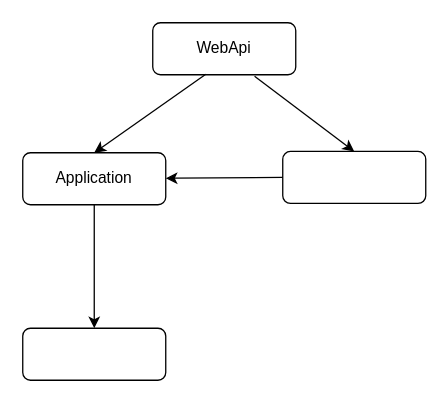
The diagram is 448 pixels wide and 403 high, and some of its shapes have lost their labels. The centre of each missing label's shape, as x and y in pixels:
Domain: pixel 93 353
Infrastructure: pixel 353 176
